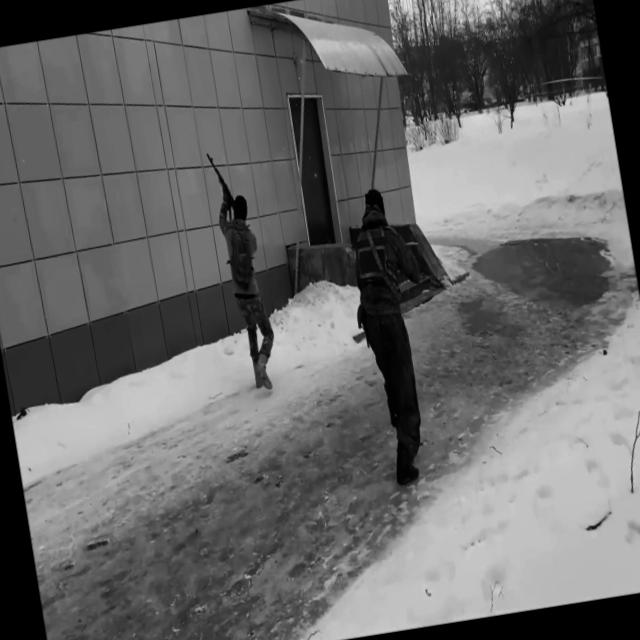gun: (205, 148, 238, 222)
person: (339, 182, 454, 488)
person with a gun: (206, 144, 284, 394)
